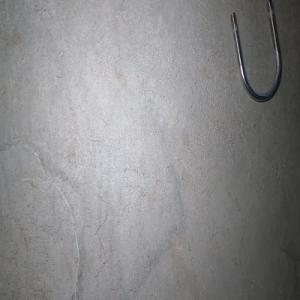ClampPart: (229, 0, 282, 103)
